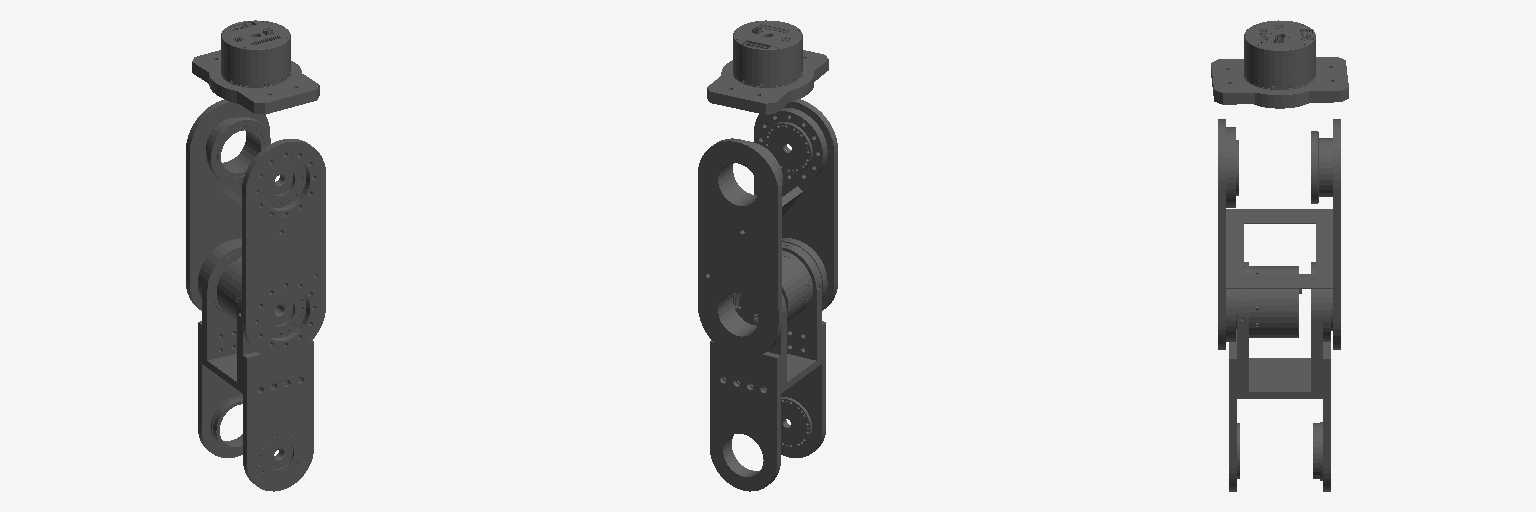
The robot description file, URDF, robot "trunk_urdf":
<?xml version="1.0" encoding="utf-8"?>
<!-- This URDF was automatically created by SolidWorks to URDF Exporter! Originally created by Stephen Brawner (brawner@gmail.com) 
     Commit Version: 1.6.0-4-g7f85cfe  Build Version: 1.6.7995.38578
     For more information, please see http://wiki.ros.org/sw_urdf_exporter -->
<robot
  name="trunk_urdf">
  <link
    name="base_link">
    <inertial>
      <origin
        xyz="-4.01405088889979E-05 -0.00352473624103908 0.0480485516731422"
        rpy="0 0 0" />
      <mass
        value="1.19376797646484" />
      <inertia
        ixx="0.00174493194737575"
        ixy="1.72477982890629E-06"
        ixz="4.78024511976294E-08"
        iyy="0.00333057845739083"
        iyz="2.44491422918845E-06"
        izz="0.00405645391434616" />
    </inertial>
    <visual>
      <origin
        xyz="0 0 0"
        rpy="0 0 0" />
      <geometry>
        <mesh
          filename="package://trunk_urdf/meshes/base_link.STL" />
      </geometry>
      <material
        name="">
        <color
          rgba="0.411764705882353 0.411764705882353 0.411764705882353 1" />
      </material>
    </visual>
    <collision>
      <origin
        xyz="0 0 0"
        rpy="0 0 0" />
      <geometry>
        <mesh
          filename="package://trunk_urdf/meshes/base_link.STL" />
      </geometry>
    </collision>
  </link>
  <link
    name="Link1">
    <inertial>
      <origin
        xyz="-4.00815451988383E-05 -0.139234993281004 -0.00324253444158193"
        rpy="0 0 0" />
      <mass
        value="1.16740315970427" />
      <inertia
        ixx="0.00188021895341448"
        ixy="-8.64543339239997E-08"
        ixz="1.72458411118576E-06"
        iyy="0.0011634231572531"
        iyz="1.96016605877902E-05"
        izz="0.00246980843174015" />
    </inertial>
    <visual>
      <origin
        xyz="0 0 0"
        rpy="0 0 0" />
      <geometry>
        <mesh
          filename="package://trunk_urdf/meshes/Link1.STL" />
      </geometry>
      <material
        name="">
        <color
          rgba="0.411764705882353 0.411764705882353 0.411764705882353 1" />
      </material>
    </visual>
    <collision>
      <origin
        xyz="0 0 0"
        rpy="0 0 0" />
      <geometry>
        <mesh
          filename="package://trunk_urdf/meshes/Link1.STL" />
      </geometry>
    </collision>
  </link>
  <joint
    name="joint1"
    type="revolute">
    <origin
      xyz="0 -0.00073898 0.092"
      rpy="-1.5708 0 0" />
    <parent
      link="base_link" />
    <child
      link="Link1" />
    <axis
      xyz="0 0 -1" />
    <limit
      lower="-1.39"
      upper="1.39"
      effort="300"
      velocity="10" />
  </joint>
  <link
    name="Link2">
    <inertial>
      <origin
        xyz="0.0015967550681588 -0.0942830837522513 -0.00292843411845677"
        rpy="0 0 0" />
      <mass
        value="0.880116917258585" />
      <inertia
        ixx="0.00417573273248533"
        ixy="-3.92700961474818E-05"
        ixz="4.80537919727938E-08"
        iyy="0.00107567424932336"
        iyz="2.56613405151841E-08"
        izz="0.00488264593536724" />
    </inertial>
    <visual>
      <origin
        xyz="0 0 0"
        rpy="0 0 0" />
      <geometry>
        <mesh
          filename="package://trunk_urdf/meshes/Link2.STL" />
      </geometry>
      <material
        name="">
        <color
          rgba="0.411764705882353 0.411764705882353 0.411764705882353 1" />
      </material>
    </visual>
    <collision>
      <origin
        xyz="0 0 0"
        rpy="0 0 0" />
      <geometry>
        <mesh
          filename="package://trunk_urdf/meshes/Link2.STL" />
      </geometry>
    </collision>
  </link>
  <joint
    name="joint2"
    type="revolute">
    <origin
      xyz="0 -0.205 0"
      rpy="0 0 0" />
    <parent
      link="Link1" />
    <child
      link="Link2" />
    <axis
      xyz="0 0 -1" />
    <limit
      lower="-1.74"
      upper="1.74"
      effort="300"
      velocity="10" />
  </joint>
  <link
    name="Link3">
    <inertial>
      <origin
        xyz="0.000105875645913057 -0.022209645647068 -0.00676494758899959"
        rpy="0 0 0" />
      <mass
        value="1.03370665864094" />
      <inertia
        ixx="0.000963896292501139"
        ixy="-5.73927375977795E-07"
        ixz="-1.83425906606744E-06"
        iyy="0.00124536923622442"
        iyz="4.04209628583469E-07"
        izz="0.00147926168448543" />
    </inertial>
    <visual>
      <origin
        xyz="0 0 0"
        rpy="0 0 0" />
      <geometry>
        <mesh
          filename="package://trunk_urdf/meshes/Link3.STL" />
      </geometry>
      <material
        name="">
        <color
          rgba="0.411764705882353 0.411764705882353 0.411764705882353 1" />
      </material>
    </visual>
    <collision>
      <origin
        xyz="0 0 0"
        rpy="0 0 0" />
      <geometry>
        <mesh
          filename="package://trunk_urdf/meshes/Link3.STL" />
      </geometry>
    </collision>
  </link>
  <joint
    name="joint3"
    type="revolute">
    <origin
      xyz="0 -0.185 0.001489"
      rpy="0 0 0" />
    <parent
      link="Link2" />
    <child
      link="Link3" />
    <axis
      xyz="0 0 -1" />
    <limit
      lower="-1.74"
      upper="1.74"
      effort="300"
      velocity="10" />
  </joint>
  <link
    name="Link4">
    <inertial>
      <origin
        xyz="-1.89511476323262E-05 -7.55563744658377E-05 0.0273829382693229"
        rpy="0 0 0" />
      <mass
        value="0.627724319805369" />
      <inertia
        ixx="0.000985321889065659"
        ixy="1.70314808933708E-05"
        ixz="-3.60603817351573E-07"
        iyy="0.000639119858509204"
        iyz="1.70903110820024E-06"
        izz="0.00123931844698071" />
    </inertial>
    <visual>
      <origin
        xyz="0 0 0"
        rpy="0 0 0" />
      <geometry>
        <mesh
          filename="package://trunk_urdf/meshes/Link4.STL" />
      </geometry>
      <material
        name="">
        <color
          rgba="0.411764705882353 0.411764705882353 0.411764705882353 1" />
      </material>
    </visual>
    <collision>
      <origin
        xyz="0 0 0"
        rpy="0 0 0" />
      <geometry>
        <mesh
          filename="package://trunk_urdf/meshes/Link4.STL" />
      </geometry>
    </collision>
  </link>
  <joint
    name="joint4"
    type="revolute">
    <origin
      xyz="0 -0.10825 0.0004"
      rpy="1.5708 0 0" />
    <parent
      link="Link3" />
    <child
      link="Link4" />
    <axis
      xyz="0 0 -1" />
    <limit
      lower="-3.14"
      upper="3.14"
      effort="300"
      velocity="10" />
  </joint>
</robot>

--- What the picture shows (computed from the rendered views, not written in the file) ---
3 views of the same robot in one strip: view 1: azimuth 30°, elevation 25°; view 2: azimuth 150°, elevation 25°; view 3: azimuth 270°, elevation 25° (orthographic).
Model trunk_urdf with 5 links and 4 joints (4 revolute), rooted at base_link, posed all joints at 0.
Visible links, largest first — view 1: Link2, Link1, Link4; view 2: Link2, Link1, Link4; view 3: Link1, Link2, Link4.
Link boxes in pixels (<box>): Link2: <box>186,99,325,357</box>; Link1: <box>198,239,313,491</box>; Link4: <box>192,20,319,114</box>; Link2: <box>698,99,837,357</box>; Link1: <box>710,242,825,491</box>; Link4: <box>707,20,828,114</box>; Link1: <box>1229,262,1330,491</box>; Link2: <box>1218,119,1340,349</box>; Link4: <box>1211,20,1348,108</box>.
Size in the robot's own frame: 0.12 by 0.1717 by 0.6253 metres.
3 mesh visuals loaded from 5 distinct referenced files (3 binary STL); not drawn: 2 (reference not matched to a file when rendering).
